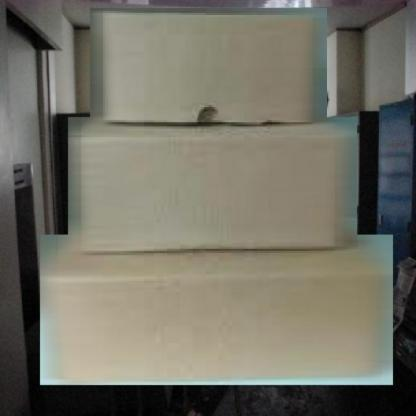box: (35, 232, 399, 388), (64, 116, 362, 258), (87, 6, 331, 131)
